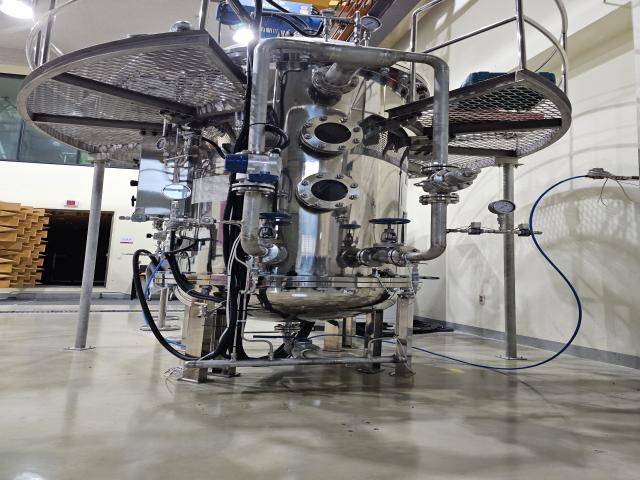Flange: (301, 115, 364, 154), (296, 172, 360, 210)
Flush Ring: (311, 65, 359, 94), (239, 241, 280, 263), (388, 246, 421, 268), (290, 343, 324, 362), (356, 247, 388, 267), (231, 183, 276, 196), (420, 192, 459, 206), (419, 163, 461, 174)
GasRegulator: (155, 131, 218, 174)
Nuts: (191, 215, 224, 226), (456, 227, 496, 235), (510, 228, 542, 237), (125, 214, 154, 222)
Piston Valve: (368, 218, 411, 248), (257, 212, 290, 243)
Pressure Gage: (162, 183, 191, 219), (488, 199, 518, 231)
